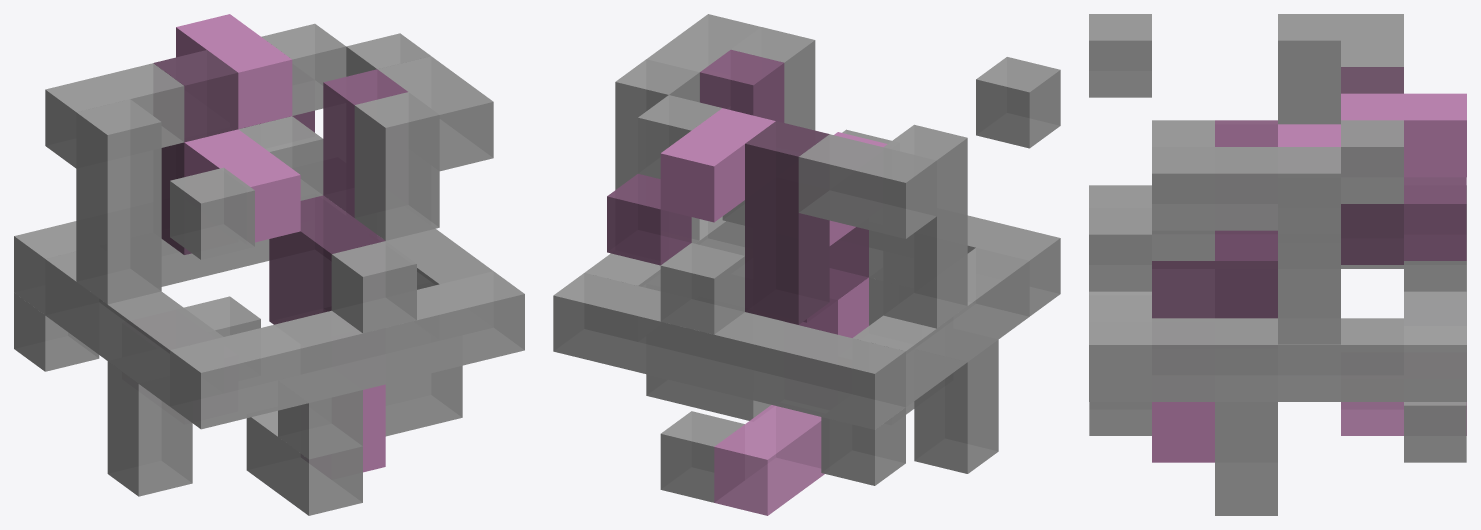
Rendered from LAB_CORREGIDO_2.fbx.
The picture shows the model from 3 angles, left to right: view 1: azimuth 30°, elevation 25°; view 2: azimuth 150°, elevation 25°; view 3: azimuth 270°, elevation 25°; orthographic projection.
Visible parts, largest first — view 1: pCube59, pCube36, pCube43, pCube61, pCube38, pCube57, pCube55, pCube37, pCube48, pCube54, pCube35, pCube52 (+13 smaller); view 2: pCube60, pCube51, pCube36, pCube37, pCube61, pCube46, pCube38, pCube48, pCube47, pCube35, pCube49, pCube41 (+13 smaller); view 3: pCube62, pCube41, pCube42, pCube59, pCube57, pCube40, pCube48, pCube60, pCube36, pCube51, pCube50, pCube54 (+11 smaller).
Boxes of the visible parts, box(x1,y1,x2,y2) form: pCube59: box(170, 271, 524, 429); pCube36: box(76, 99, 161, 304); pCube43: box(354, 92, 439, 240); pCube61: box(45, 251, 223, 406); pCube38: box(107, 361, 192, 496); pCube57: box(269, 195, 385, 324); pCube55: box(246, 410, 362, 515); pCube37: box(45, 63, 184, 168); pCube48: box(176, 14, 292, 128); pCube54: box(331, 241, 416, 333); pCube35: box(170, 167, 254, 259); pCube52: box(184, 129, 300, 242); pCube60: box(553, 273, 905, 429); pCube51: box(745, 121, 829, 324); pCube36: box(883, 124, 967, 328); pCube37: box(798, 134, 936, 238); pCube61: box(852, 247, 1029, 406); pCube46: box(714, 405, 824, 515); pCube38: box(914, 339, 998, 473); pCube48: box(660, 108, 775, 222); pCube47: box(660, 243, 744, 334); pCube35: box(976, 57, 1060, 148); pCube49: box(607, 174, 691, 265); pCube41: box(615, 59, 699, 243); pCube62: box(1152, 318, 1403, 401); pCube41: box(1278, 147, 1340, 344); pCube42: box(1152, 147, 1277, 230); pCube59: box(1089, 185, 1151, 401); pCube57: box(1152, 261, 1277, 318); pCube40: box(1215, 402, 1277, 515); pCube48: box(1341, 93, 1466, 177); pCube60: box(1404, 185, 1466, 401); pCube36: box(1278, 14, 1340, 124); pCube51: box(1341, 67, 1403, 264); pCube50: box(1341, 120, 1403, 203); pCube54: box(1089, 208, 1151, 291).
Size of the model in its own units: 6 by 6 by 6.
